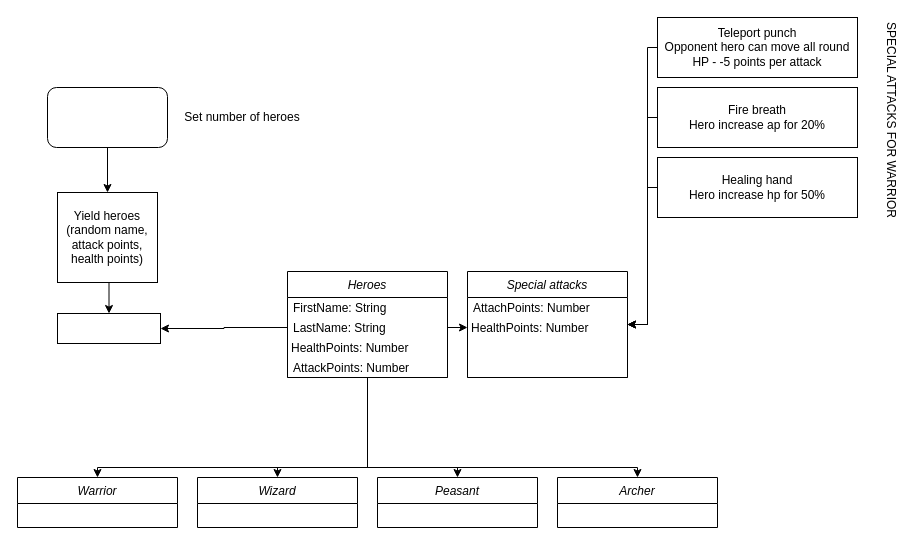
This 923x545 diagram has some shape labels left out. The centre of each missing label's shape, as x and y in pixels:
Array heroes: point 108,328
INPUT: point 107,117
